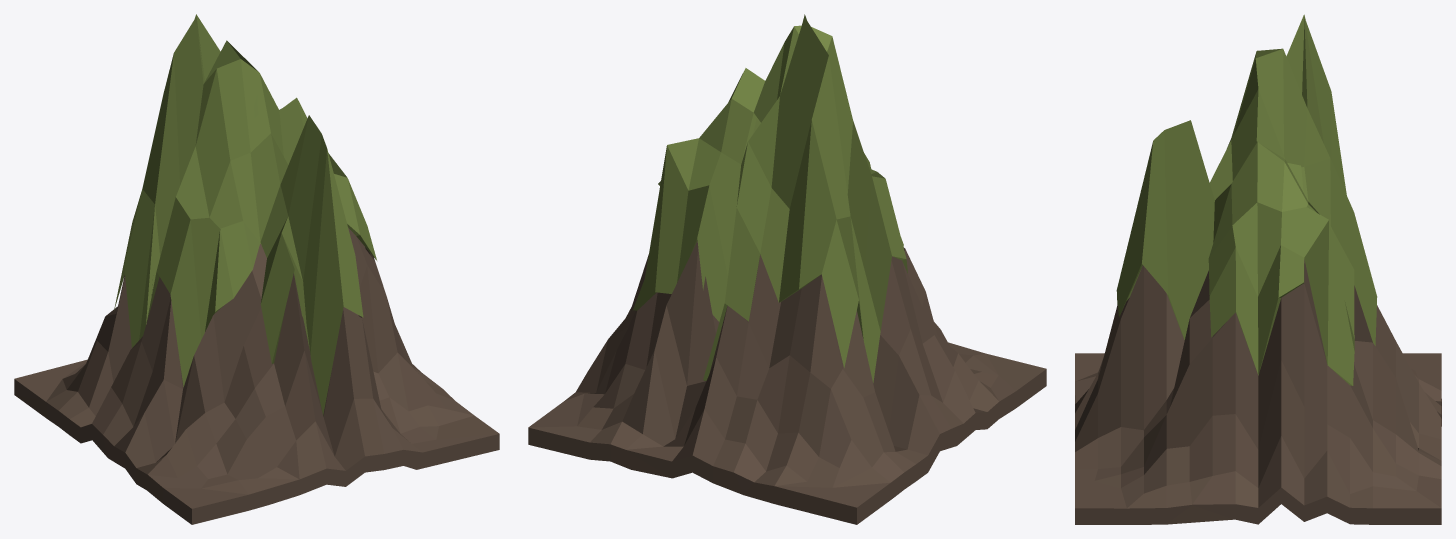
The model's file is mountain_v2.fbx.
The picture shows the model from 3 angles, left to right: view 1: azimuth 30°, elevation 25°; view 2: azimuth 150°, elevation 25°; view 3: azimuth 270°, elevation 25°; orthographic projection. The views are drawn at different scales.
Parts seen in each view (by area): view 1: Box002; view 2: Box002; view 3: Box002.
Boxes of the visible parts, box(x1,y1,x2,y2) form: Box002: box(14, 14, 499, 524); Box002: box(528, 14, 1046, 524); Box002: box(1075, 14, 1441, 524).
Size of the model in its own units: 203 by 253 by 203.
